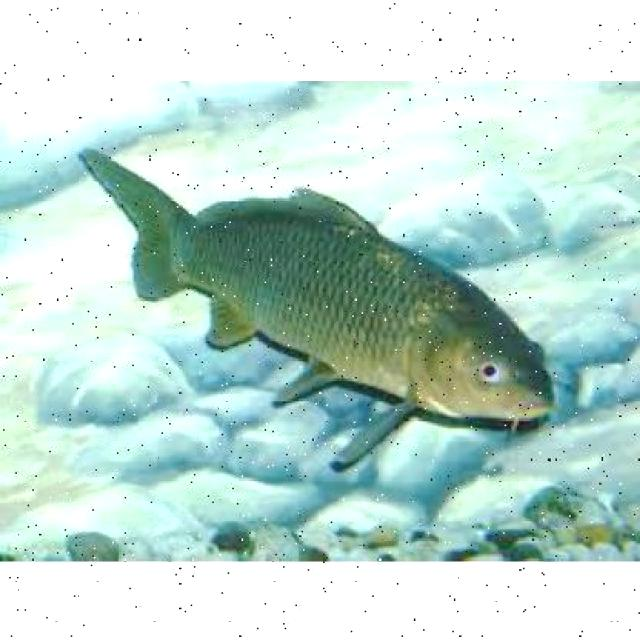ikan-mas: (76, 140, 561, 434)
